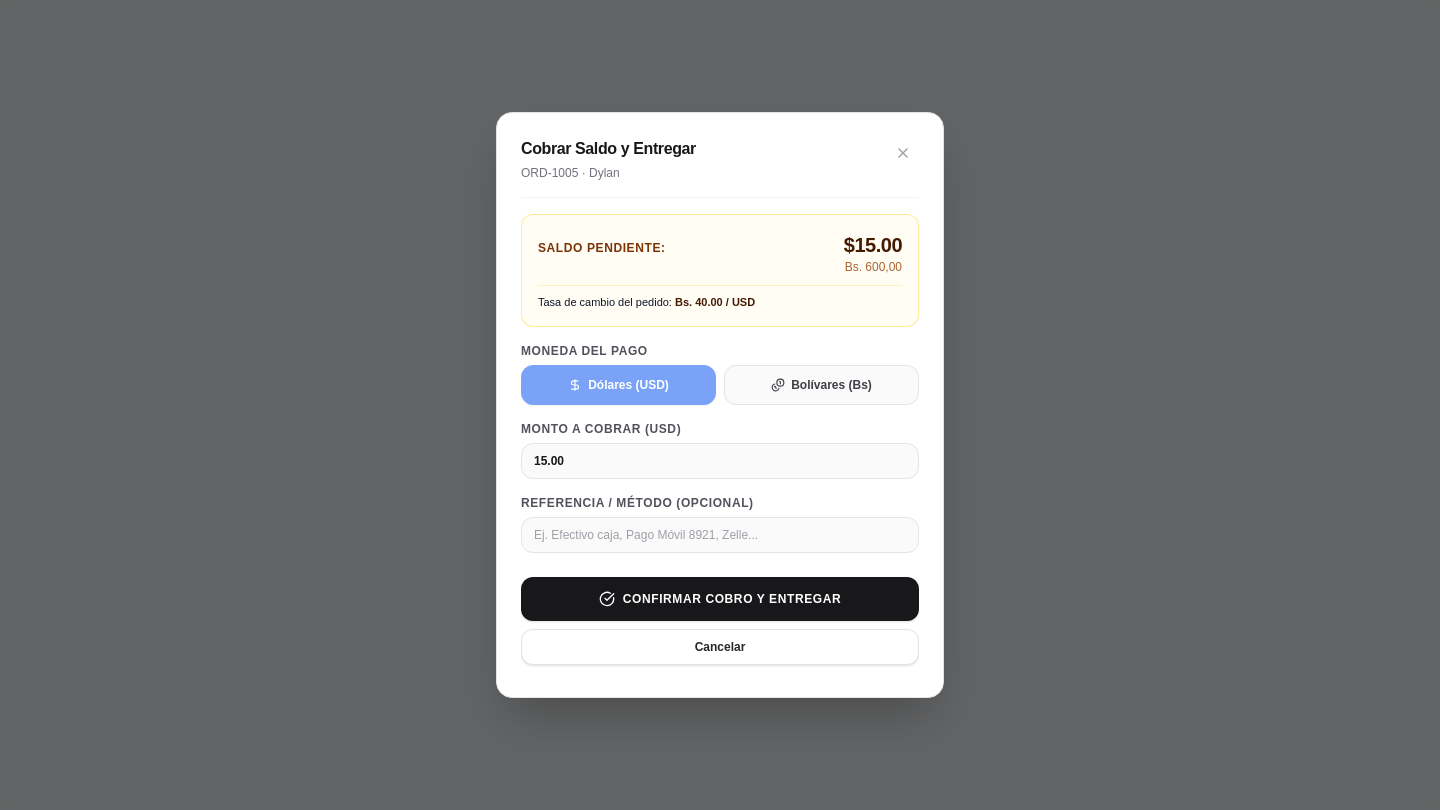
Test: Componente CobrarYEntregarModal (Fase 31) › cambia el monto por defecto al alternar entre USD y Bs
The width and height of the screenshot is (1440, 810).
Expected: the number field labelled "Monto a Cobrar (USD)" holds "15.00", x1=521 y1=443 x2=919 y2=479
Cambiar a Bolívares
Click the button "Bolívares (Bs)" at (822, 385), box x1=724 y1=365 x2=919 y2=405
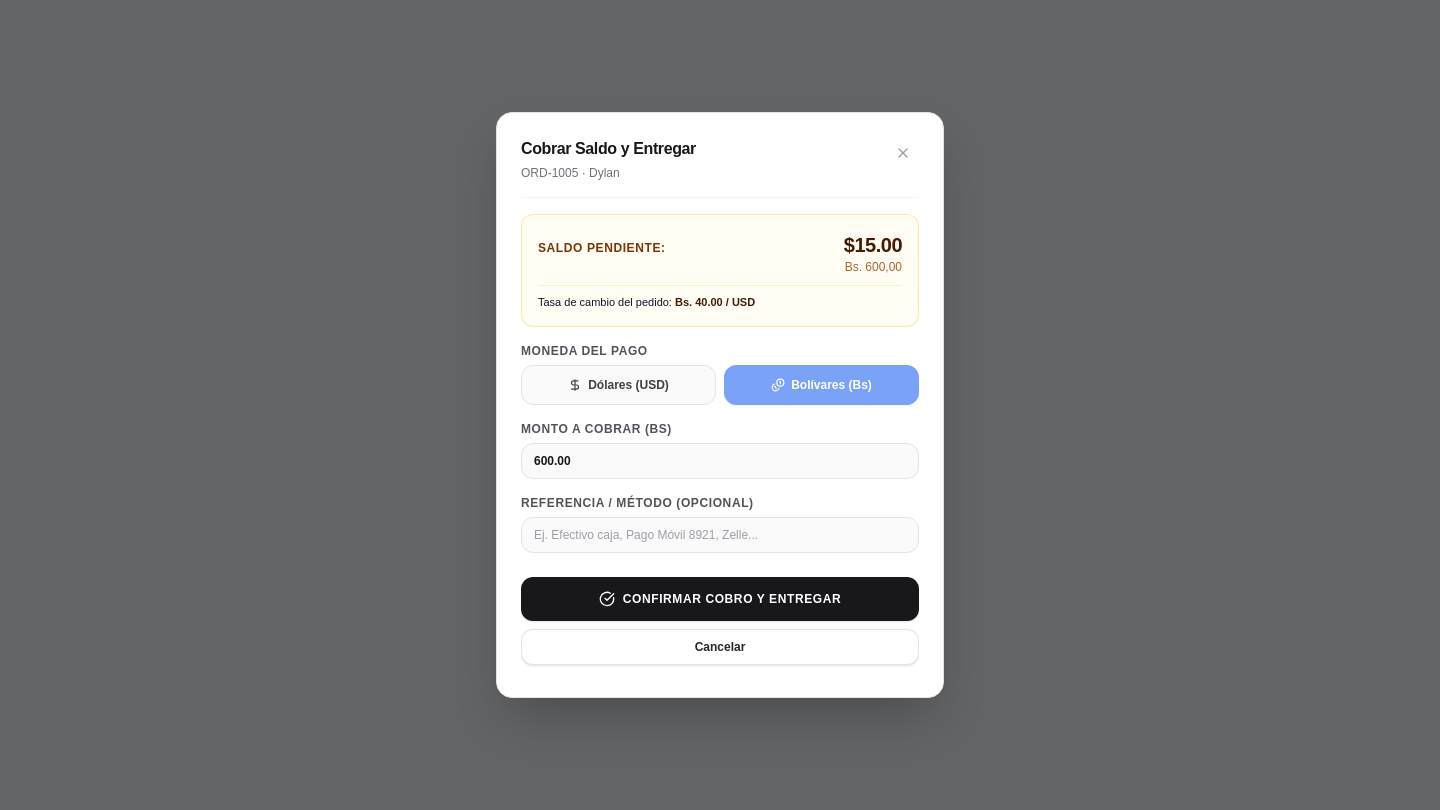
Now the number field labelled "Monto a Cobrar (Bs)" holds "600.00", box x1=521 y1=443 x2=919 y2=479
